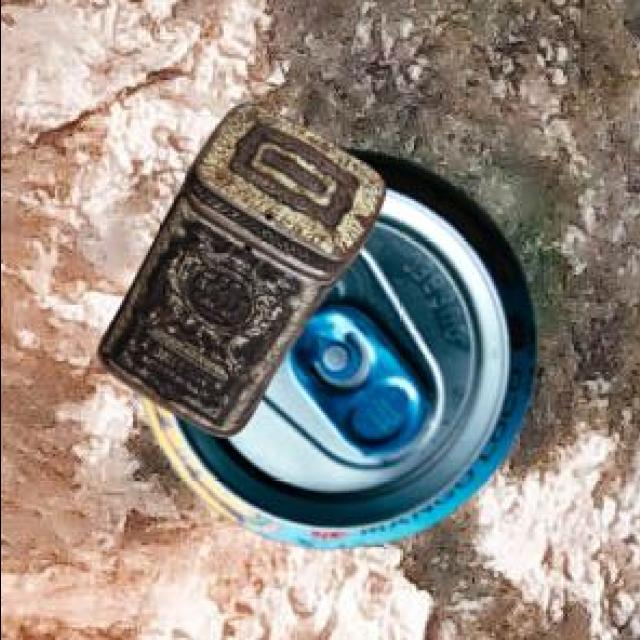logam: (144, 146, 539, 546), (101, 101, 388, 434)
